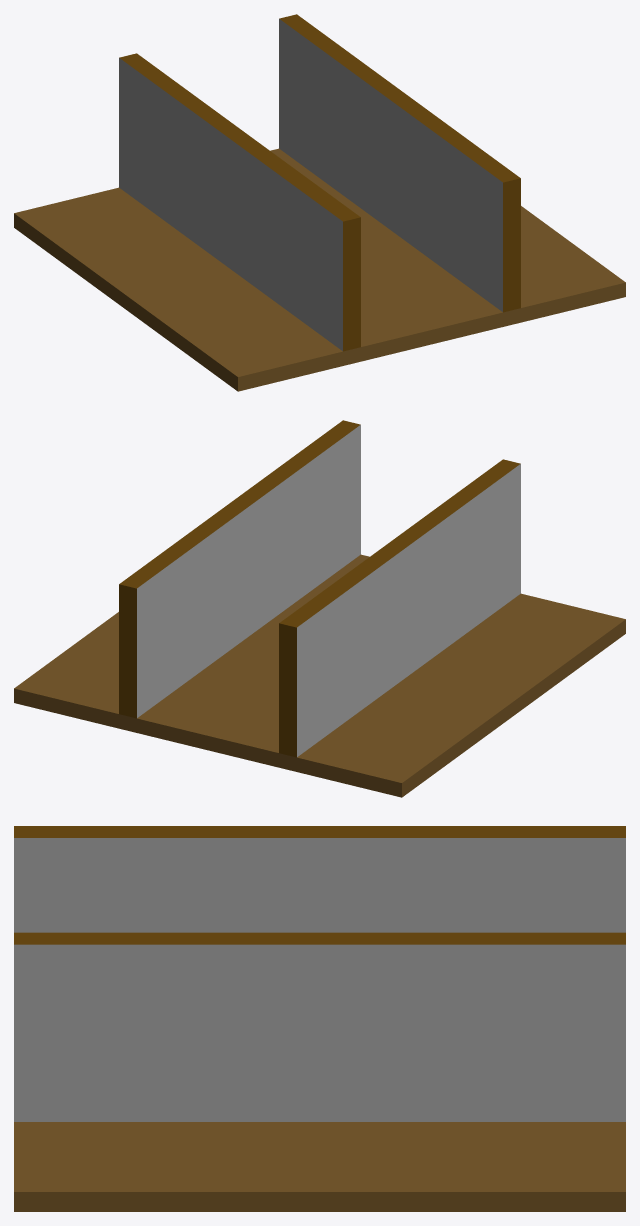
File: floor_section-05.fbx
The picture shows the model from 3 angles, top to bottom: view 1: azimuth 30°, elevation 25°; view 2: azimuth 150°, elevation 25°; view 3: azimuth 270°, elevation 25°; orthographic projection. The views are drawn at different scales.
Parts seen in each view (by area): view 1: Plane.006; view 2: Plane.006; view 3: Plane.006.
Boxes of the visible parts, x1,y1,x2,y2 form: Plane.006: (14, 14, 625, 391); Plane.006: (14, 420, 625, 797); Plane.006: (14, 826, 625, 1211).
Size of the model in its own units: 600 by 213 by 600.
